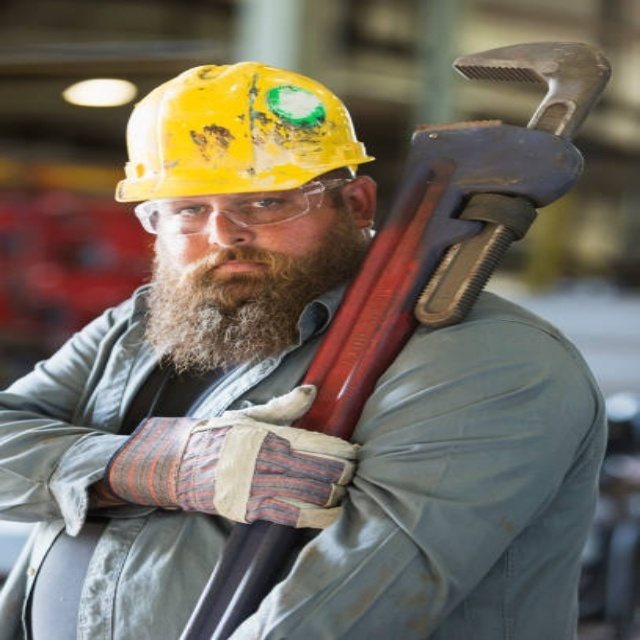Gafas: (138, 177, 352, 236)
Guantes: (112, 386, 359, 530)
Sin_mascara: (188, 244, 289, 292)
